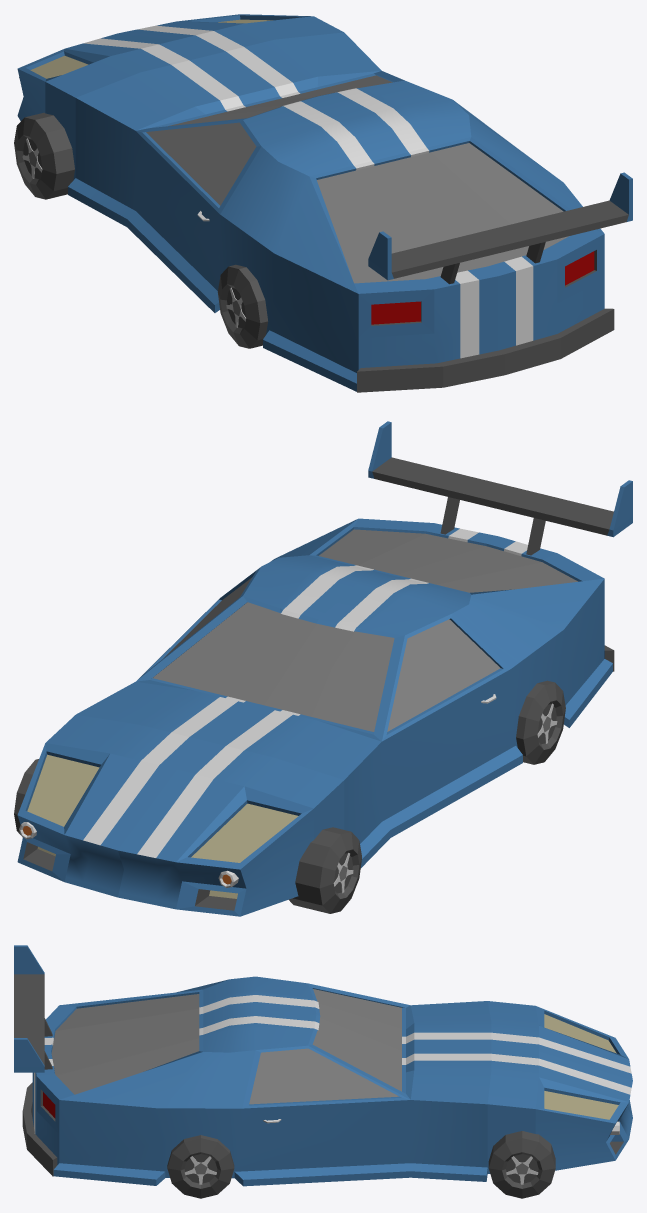
File: Auto.fbx
3 views of the same model, one above another, from view 1: azimuth 30°, elevation 25°; view 2: azimuth 150°, elevation 25°; view 3: azimuth 270°, elevation 25° (orthographic). The views are drawn at different scales.
Parts seen in each view (by area): view 1: Carrozzeria, Alettone_posteriore, Pneumatico (×2), Parafango_posteriore; view 2: Carrozzeria, Alettone_posteriore, Pneumatico (×2); view 3: Carrozzeria, Pneumatico (×2), Alettone_posteriore, Parafango_posteriore.
Part boxes in pixels (x1,y1,x2,y2): Carrozzeria: (17, 14, 604, 391); Alettone_posteriore: (368, 172, 632, 284); Pneumatico (×2): (14, 112, 268, 348); Parafango_posteriore: (357, 308, 614, 392); Carrozzeria: (17, 518, 612, 916); Alettone_posteriore: (368, 421, 632, 555); Pneumatico (×2): (289, 680, 565, 913); Carrozzeria: (32, 976, 632, 1186); Pneumatico (×2): (167, 1131, 555, 1198); Alettone_posteriore: (14, 945, 52, 1072); Parafango_posteriore: (22, 1082, 57, 1176).
Bounding box in the file's own units: 1.77 × 0.9964 × 3.79.
